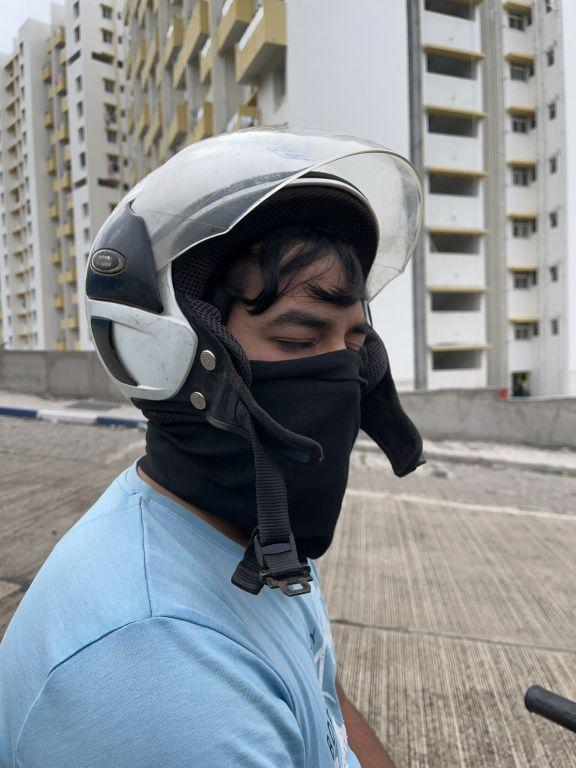helmet: (72, 115, 440, 603)
